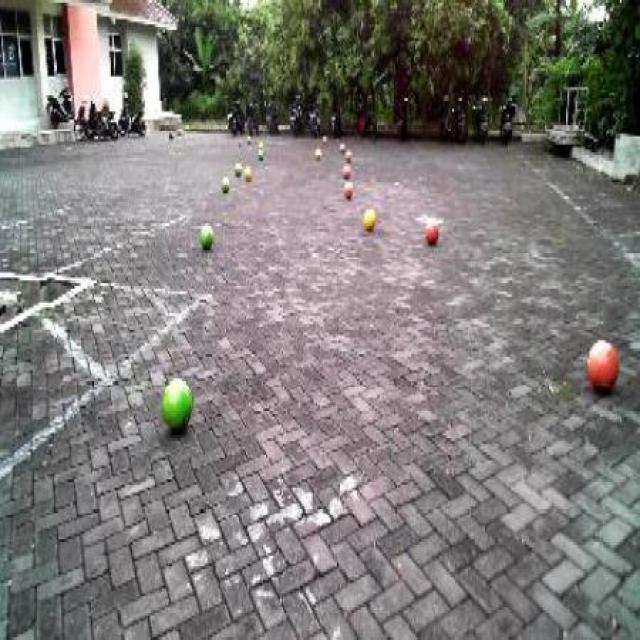buoy: (577, 322, 626, 410), (158, 365, 198, 439), (192, 213, 220, 258), (421, 207, 444, 254), (356, 198, 382, 234), (337, 173, 358, 205), (216, 170, 233, 198)
